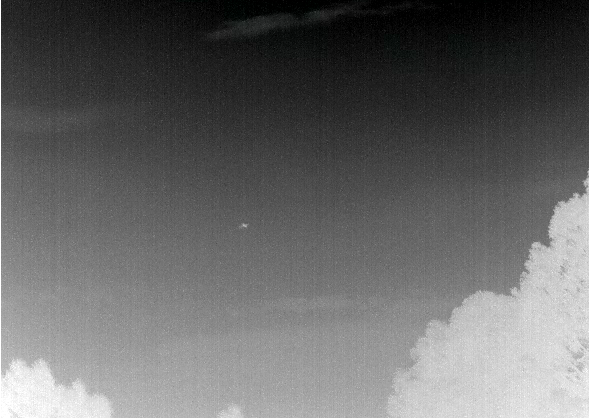dim target: (238, 220, 249, 228)
